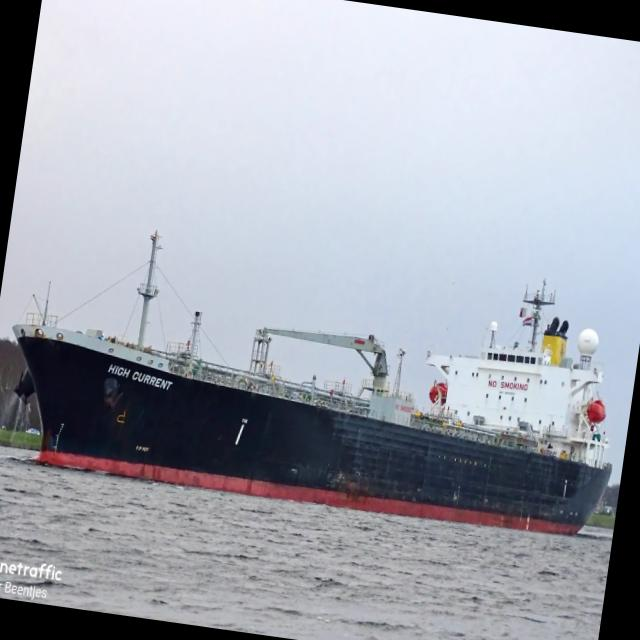Tanker: (13, 233, 611, 535)
